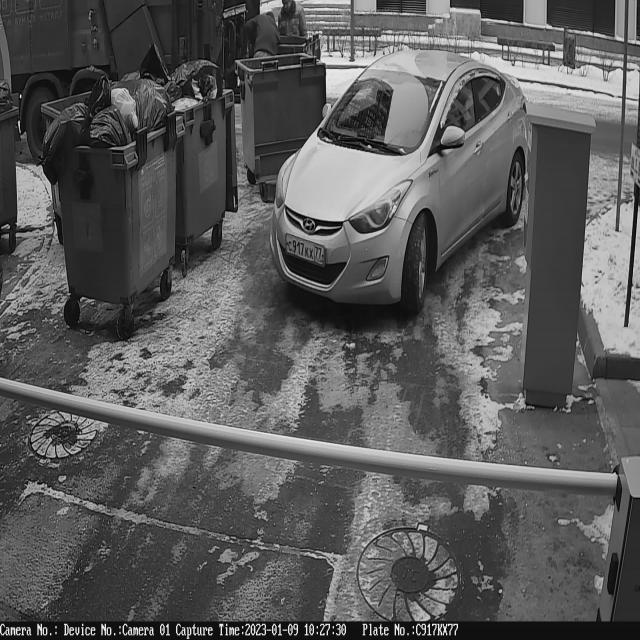car-plate-numbers: (282, 233, 328, 273)
